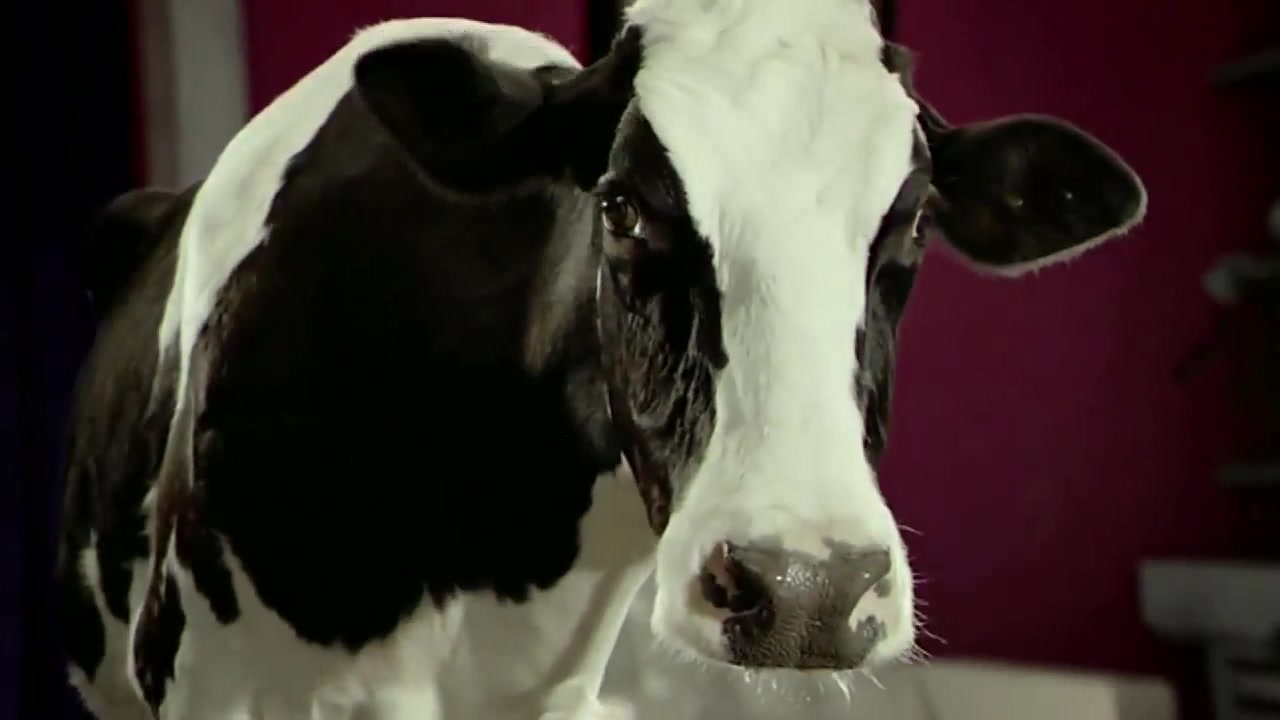cow: (1, 2, 1152, 720)
